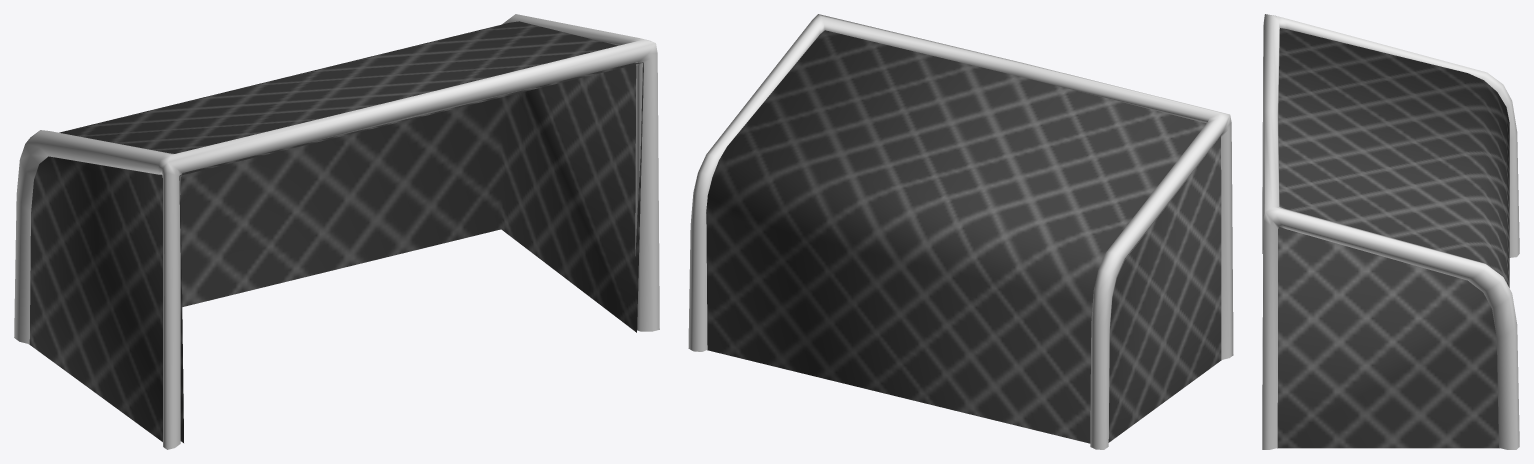
The model's file is FootBall_Net.fbx.
The picture shows the model from 3 angles, left to right: view 1: azimuth 30°, elevation 25°; view 2: azimuth 150°, elevation 25°; view 3: azimuth 270°, elevation 25°; orthographic projection. The views are drawn at different scales.
Parts seen in each view (by area): view 1: FootBall Net Pipe; view 2: FootBall Net Pipe; view 3: FootBall Net Pipe.
Boxes of the visible parts, <box> form: FootBall Net Pipe: <box>14,14,659,449</box>; FootBall Net Pipe: <box>688,14,1233,449</box>; FootBall Net Pipe: <box>1262,14,1519,449</box>.
Size of the model in its own units: 110 by 61.76 by 60.09.
